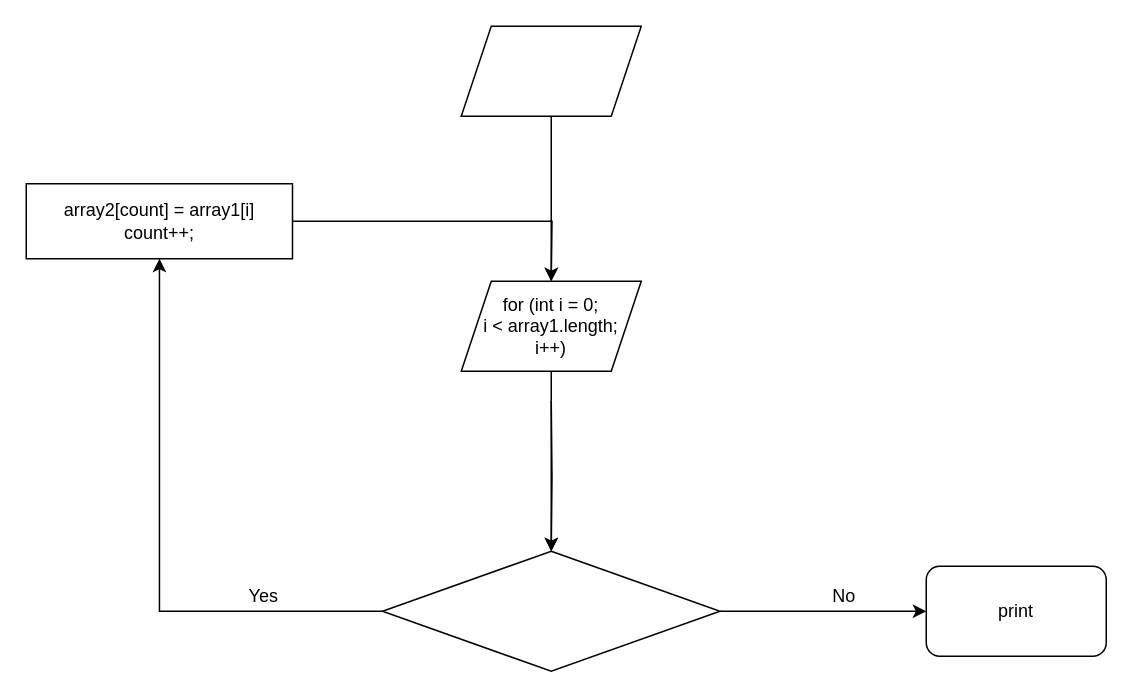
This 1133x698 diagram has some shape labels left out. Each missing label, with the centre of its shape:
"if (array1[i].length <= 3)" belongs at pixel 550 610.
"string[ ]array1 string array2 int count = 0" belongs at pixel 550 70.
